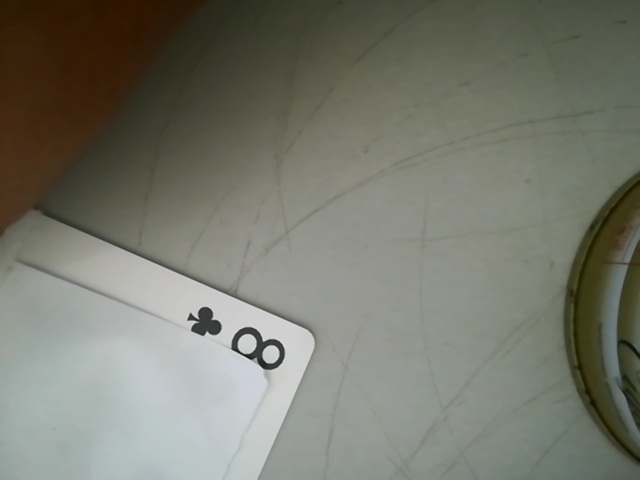mh 8: (187, 301, 300, 376)
